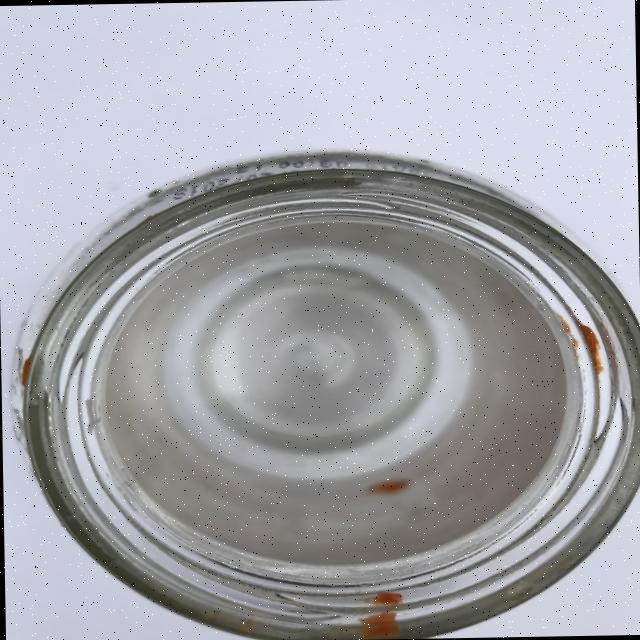glass: (9, 145, 630, 638)
